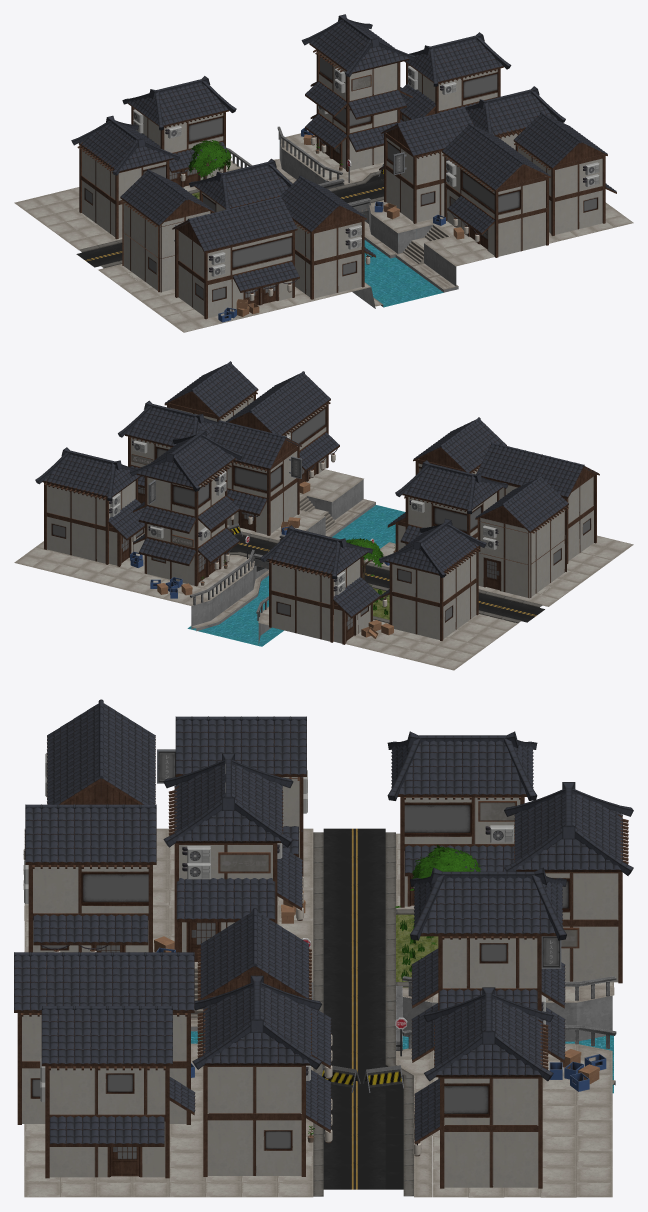
The model's file is overworld.glb.
3 renders of one model, top to bottom at view 1: azimuth 30°, elevation 25°; view 2: azimuth 150°, elevation 25°; view 3: azimuth 270°, elevation 25°, orthographic. The views are drawn at different scales.
Visible parts, largest first — view 1: Atlas02, blinn26, Folliage, Atlas_03; view 2: Atlas02, blinn26, Atlas_03, Folliage; view 3: Atlas02, blinn26, Atlas_03, Folliage.
Boxes of the visible parts, box(x1,y1,x2,y2) form: Atlas02: box(71, 14, 616, 322); blinn26: box(14, 126, 633, 332); Folliage: box(188, 140, 342, 197); Atlas_03: box(192, 74, 383, 199); Atlas02: box(35, 361, 599, 644); blinn26: box(14, 469, 633, 670); Atlas_03: box(131, 454, 395, 624); Folliage: box(200, 538, 395, 618); Atlas02: box(14, 699, 633, 1188); blinn26: box(24, 828, 616, 1197); Atlas_03: box(218, 801, 579, 1142); Folliage: box(308, 844, 481, 1137).
Bounding box in the file's own units: 39.89 × 12.87 × 28.34.
Materials: 4 (4 with a texture image).
